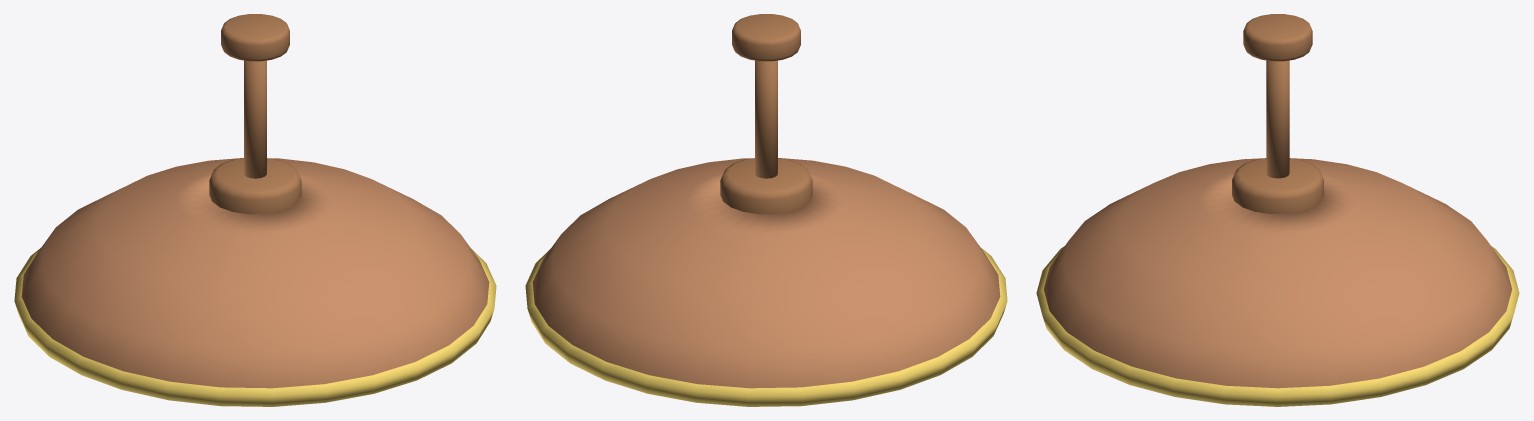
Rendered from ceiling-light.glb.
The picture shows the model from 3 angles, left to right: view 1: azimuth 30°, elevation 25°; view 2: azimuth 150°, elevation 25°; view 3: azimuth 270°, elevation 25°; orthographic projection.
Parts seen in each view (by area): view 1: ShellCeilingLight_Shade, ShellCeilingLight_ShadeRim, ShellCeilingLight_Mount; view 2: ShellCeilingLight_Shade, ShellCeilingLight_ShadeRim, ShellCeilingLight_Mount; view 3: ShellCeilingLight_Shade, ShellCeilingLight_ShadeRim, ShellCeilingLight_Mount.
Part boxes in pixels (x1,y1,x2,y2): ShellCeilingLight_Shade: (21, 158, 489, 388); ShellCeilingLight_ShadeRim: (14, 248, 496, 406); ShellCeilingLight_Mount: (209, 14, 301, 214); ShellCeilingLight_Shade: (532, 158, 1000, 388); ShellCeilingLight_ShadeRim: (525, 248, 1007, 406); ShellCeilingLight_Mount: (720, 14, 812, 214); ShellCeilingLight_Shade: (1043, 158, 1512, 388); ShellCeilingLight_ShadeRim: (1036, 246, 1519, 406); ShellCeilingLight_Mount: (1232, 14, 1323, 213).
Bounding box in the file's own units: 0.586 × 0.446 × 0.586.
